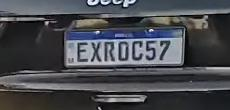Placa_mercosul_carro: (64, 25, 186, 69)
